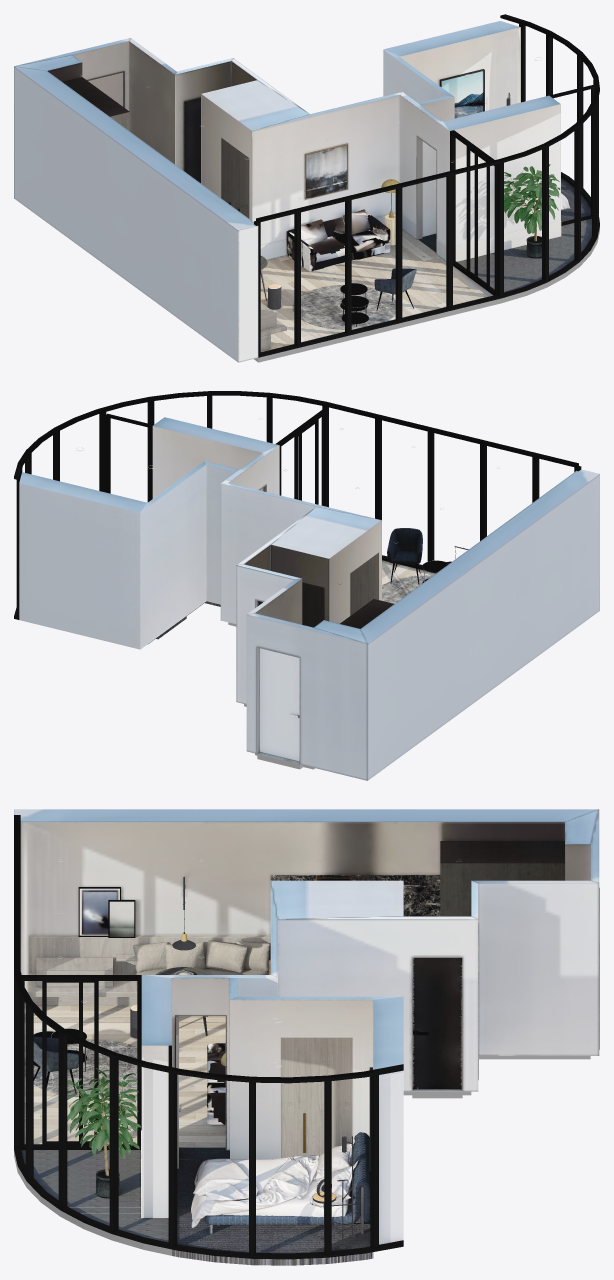
3 renders of one model, top to bottom at view 1: azimuth 30°, elevation 25°; view 2: azimuth 150°, elevation 25°; view 3: azimuth 270°, elevation 25°, orthographic. The views are drawn at different scales.
Parts seen in each view (by area): view 1: Object_39, Object_37, Object_38, Object_40, Object_4, Object_30, Object_28, Object_44, Object_20, Object_23, Object_3, Object_29 (+7 smaller); view 2: Object_39, Object_37, Object_38, Object_40, Object_20, Object_32, Object_25, Object_23, Object_4, Object_22; view 3: Object_39, Object_37, Object_40, Object_38, Object_30, Object_4, Object_20, Object_24, Object_32, Object_22, Object_23, Object_2 (+11 smaller).
Part boxes in pixels (x1,y1,x2,y2): Object_39: [14, 38, 258, 362]; Object_37: [383, 21, 560, 246]; Object_38: [175, 58, 401, 245]; Object_40: [254, 14, 599, 357]; Object_4: [260, 229, 493, 351]; Object_30: [418, 178, 591, 292]; Object_28: [304, 69, 484, 199]; Object_44: [286, 209, 390, 271]; Object_20: [87, 71, 436, 253]; Object_23: [293, 285, 395, 329]; Object_3: [504, 164, 560, 258]; Object_29: [260, 213, 561, 261]; Object_39: [246, 469, 599, 780]; Object_37: [19, 417, 279, 649]; Object_38: [220, 482, 381, 704]; Object_40: [14, 391, 581, 619]; Object_20: [255, 484, 300, 764]; Object_32: [302, 553, 378, 627]; Object_25: [387, 528, 437, 584]; Object_23: [382, 575, 432, 603]; Object_4: [258, 560, 435, 764]; Object_22: [340, 599, 393, 628]; Object_39: [14, 809, 599, 1055]; Object_37: [141, 975, 403, 1244]; Object_40: [14, 815, 403, 1259]; Object_38: [270, 880, 478, 1091]; Object_30: [21, 1147, 373, 1265]; Object_4: [24, 1002, 462, 1147]; Object_20: [175, 887, 599, 1168]; Object_24: [28, 935, 270, 1005]; Object_32: [280, 1037, 352, 1164]; Object_22: [440, 841, 564, 1016]; Object_23: [24, 875, 440, 1097]; Object_2: [191, 1155, 319, 1227].
Size of what is drawn, in the model's own units: 9305 by 2902 by 8297.
Materials: 22 (21 with a texture image).
